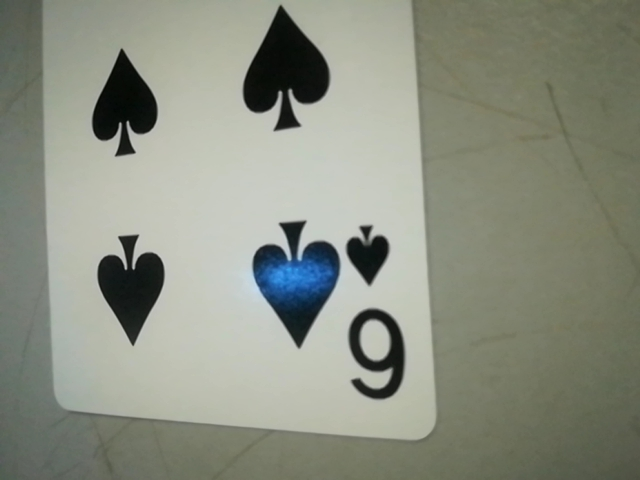ht 6: (335, 208, 422, 421)
